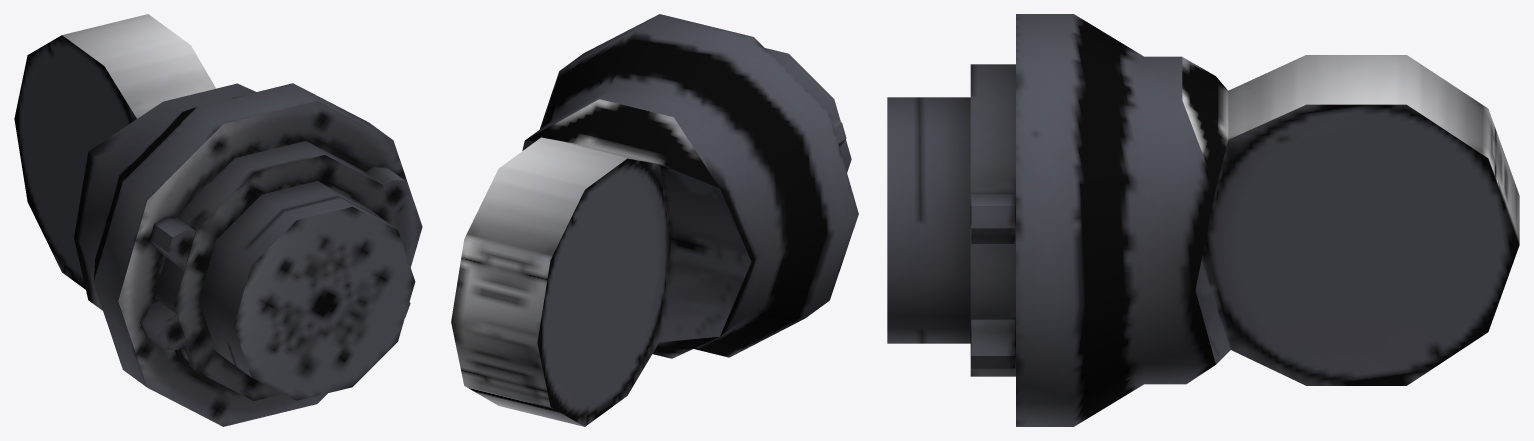
File: r_hand.dae
3 views of the same model, side by side, from view 1: azimuth 30°, elevation 25°; view 2: azimuth 150°, elevation 25°; view 3: azimuth 270°, elevation 25° (orthographic). The views are drawn at different scales.
Parts seen in each view (by area): view 1: r_hand; view 2: r_hand; view 3: r_hand.
Boxes of the visible parts, x1,y1,x2,y2 form: r_hand: (14, 14, 422, 426); r_hand: (451, 14, 858, 426); r_hand: (887, 14, 1519, 426).
Size of the model in its own units: 0.1021 by 0.1551 by 0.0971.
Materials: 1 (1 with a texture image).
